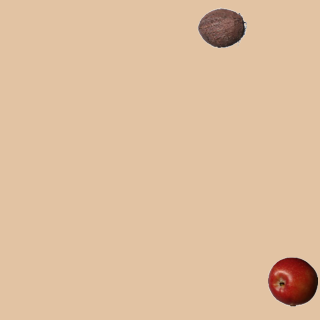Apple Braeburn: (267, 256, 317, 306)
Cocos: (196, 2, 246, 52)
